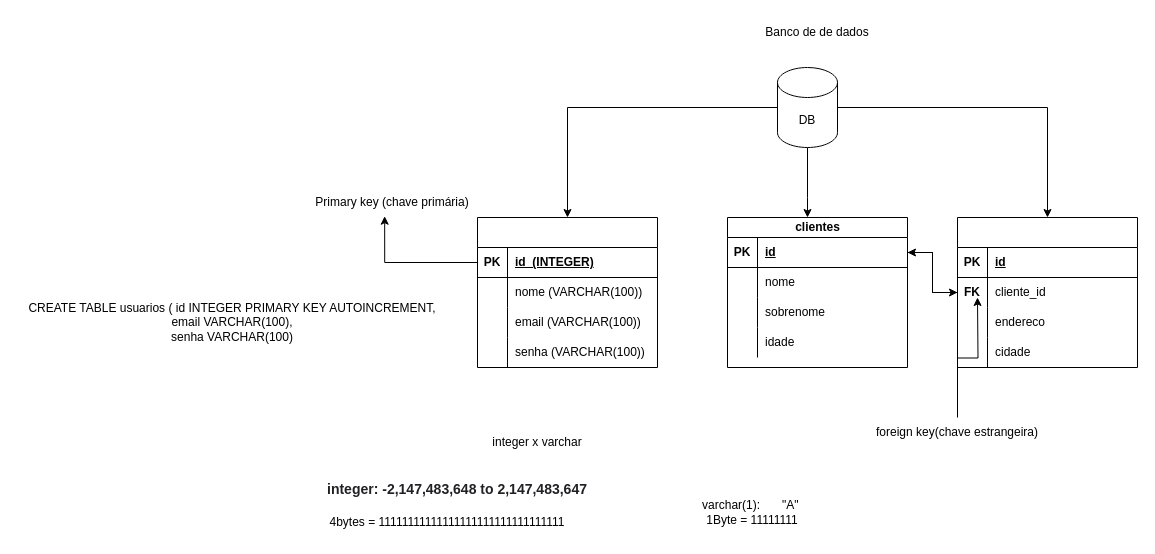
The diagram is 1155 pixels wide and 554 high, and some of its shapes have lost their labels. The box of each missing label's shape, as (x1, y1, x2, y2) in pixels:
cliente_enderecos: (956, 216, 1138, 368)
usuarios: (476, 216, 658, 368)
